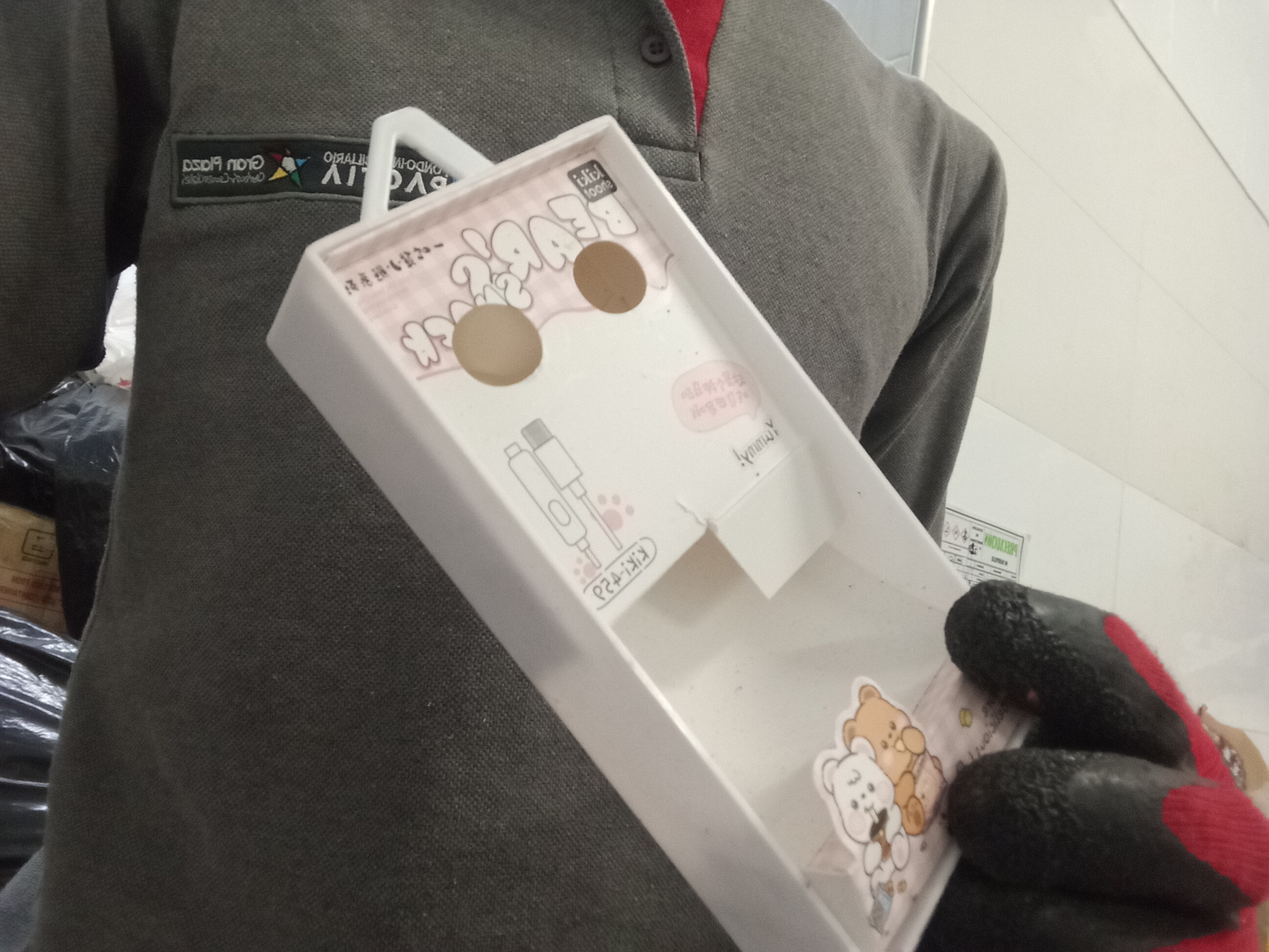Ordinario: (264, 102, 973, 952)
